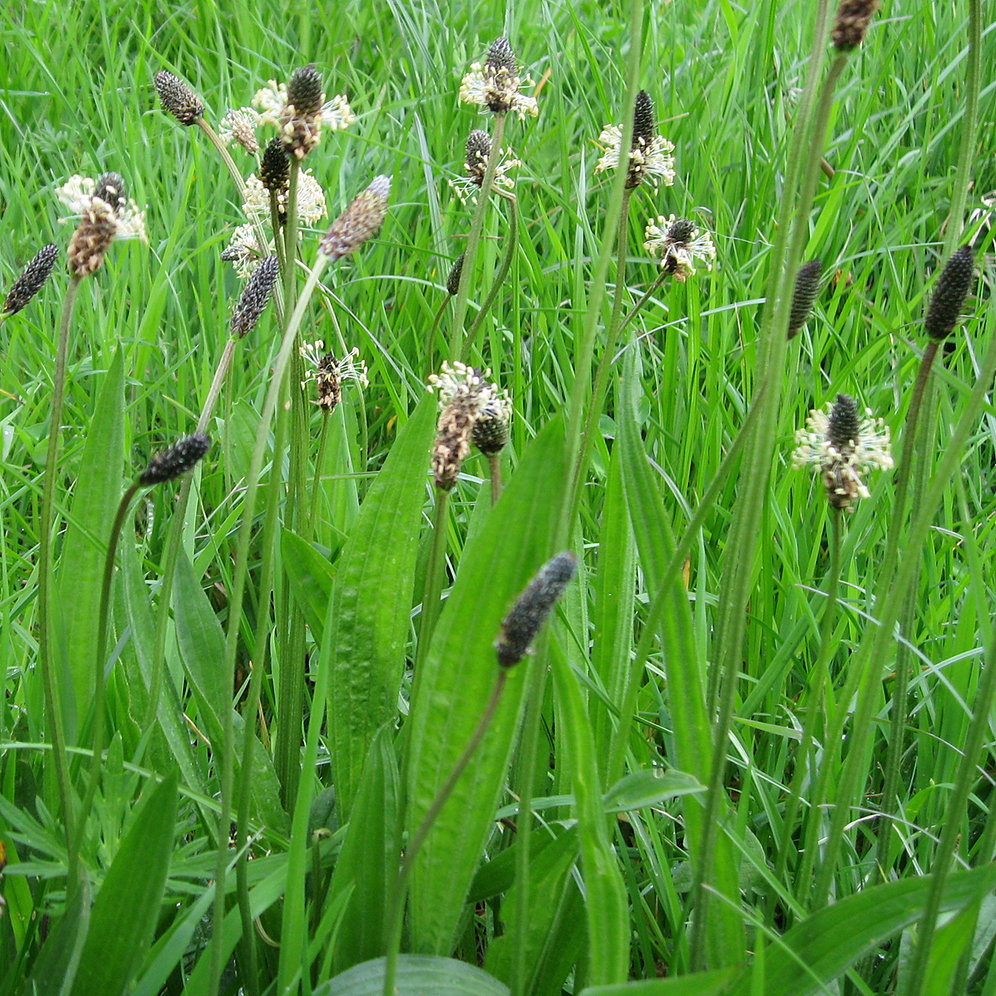buckhorn plantain: (22, 26, 938, 953)
